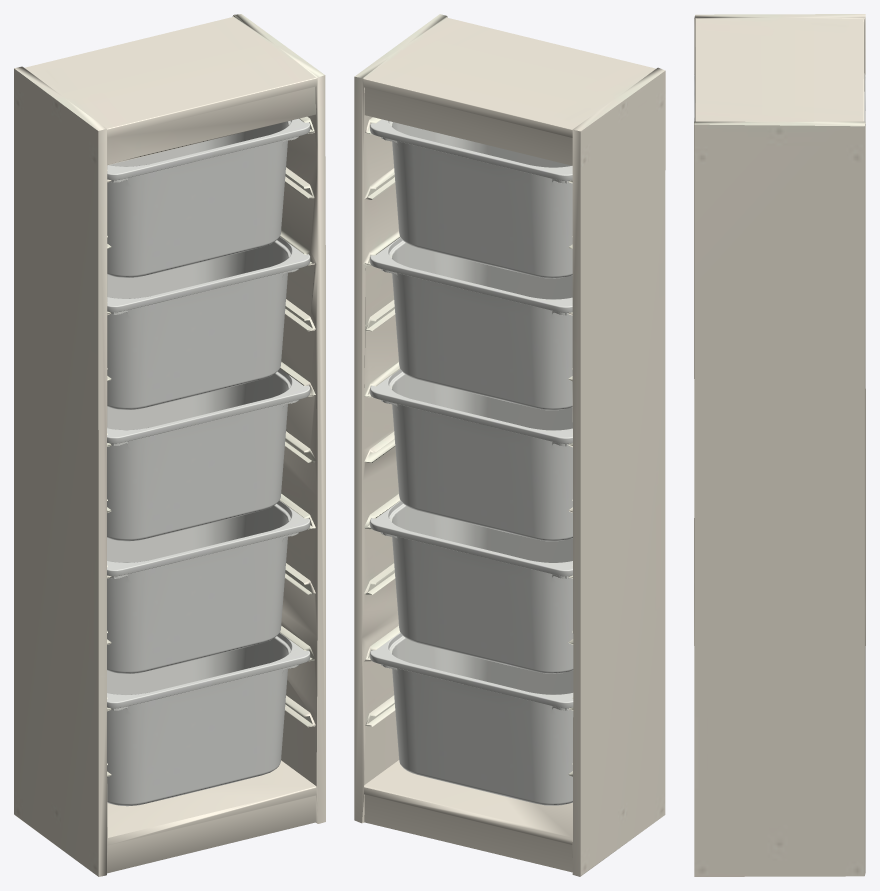
File: trofast_rega_z_pojemnikami_99575471.glb
3 views of the same model, side by side, from view 1: azimuth 30°, elevation 25°; view 2: azimuth 150°, elevation 25°; view 3: azimuth 270°, elevation 25° (orthographic).
Parts seen in each view (by area): view 1: trofast_rega_z_pojemnikami_99575471; view 2: trofast_rega_z_pojemnikami_99575471; view 3: trofast_rega_z_pojemnikami_99575471.
Part boxes in pixels (x1,y1,x2,y2): trofast_rega_z_pojemnikami_99575471: (14,14,325,876); trofast_rega_z_pojemnikami_99575471: (354,14,665,876); trofast_rega_z_pojemnikami_99575471: (694,14,865,876).
Bounding box in the file's own units: 0.4617 × 1.45 × 0.3003.
2 materials, 2 textured.
